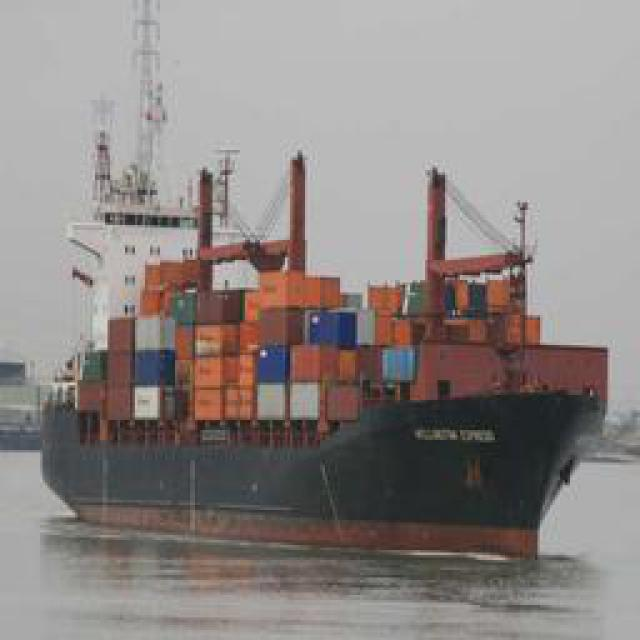Ship: (31, 99, 611, 559)
